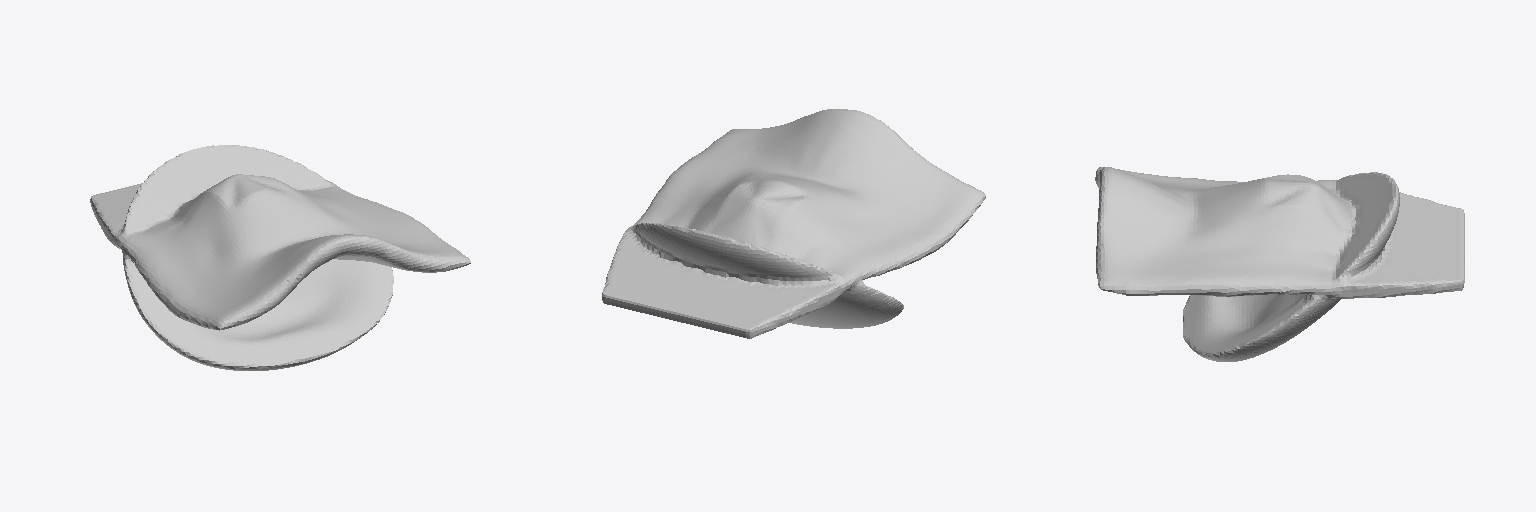
The model's file is SubTool-8-14987835.OBJ.
3 renders of one model, left to right at view 1: azimuth 30°, elevation 25°; view 2: azimuth 150°, elevation 25°; view 3: azimuth 270°, elevation 25°, orthographic.
Parts seen in each view (by area): view 1: ZBrush_defualt_group; view 2: ZBrush_defualt_group; view 3: ZBrush_defualt_group.
Boxes of the visible parts, x1,y1,x2,y2 form: ZBrush_defualt_group: [90, 145, 470, 370]; ZBrush_defualt_group: [602, 109, 985, 338]; ZBrush_defualt_group: [1095, 167, 1464, 361].
Size of the model in its own units: 1.25 by 0.7516 by 1.54.